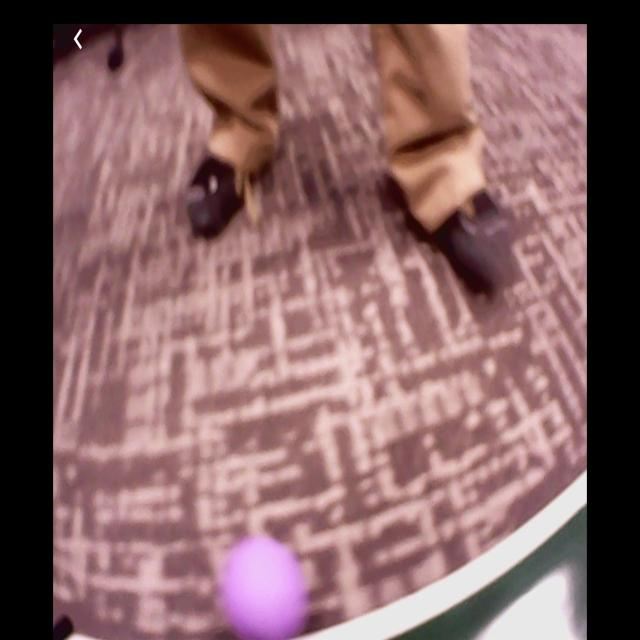ball: (225, 537, 302, 640)
